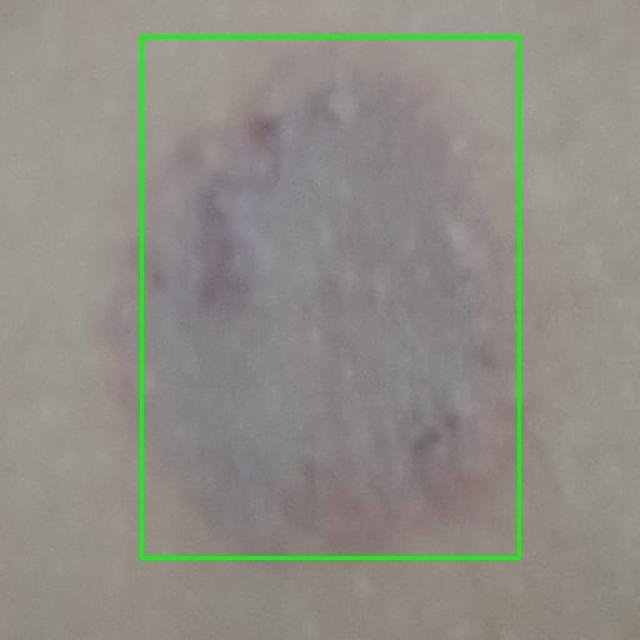Eczema: (141, 36, 519, 558)
